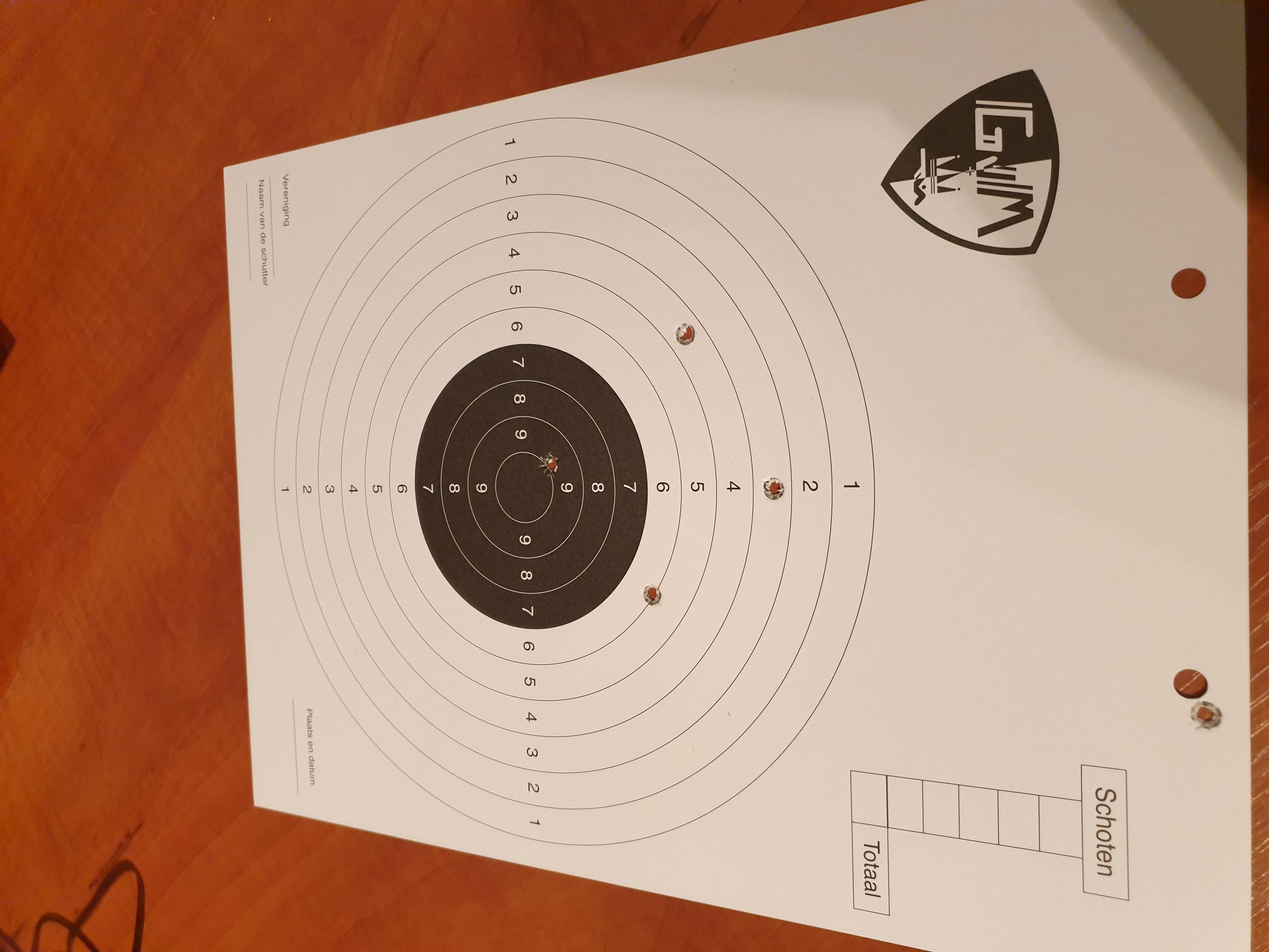hole: (287, 894, 340, 918), (453, 479, 495, 502), (596, 569, 636, 593), (625, 401, 665, 424), (802, 506, 843, 523)
